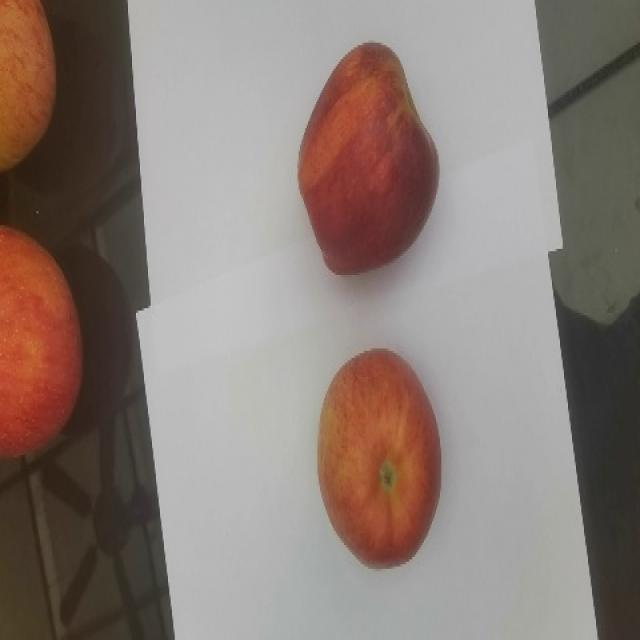Apple: (291, 40, 444, 276), (317, 348, 446, 574), (0, 227, 88, 463), (0, 0, 57, 167)
